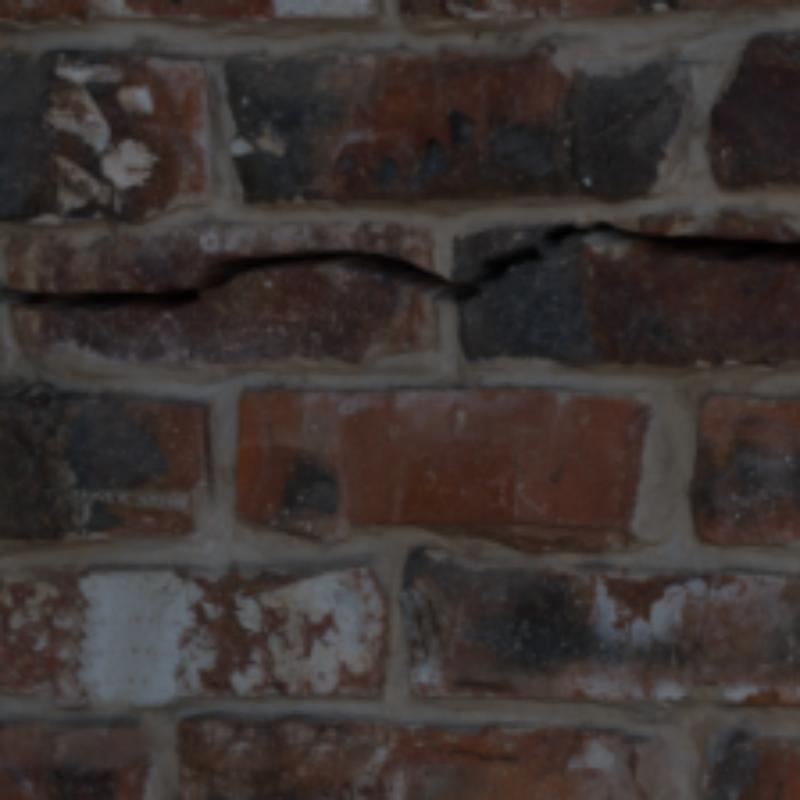pothole: (0, 221, 796, 311)
